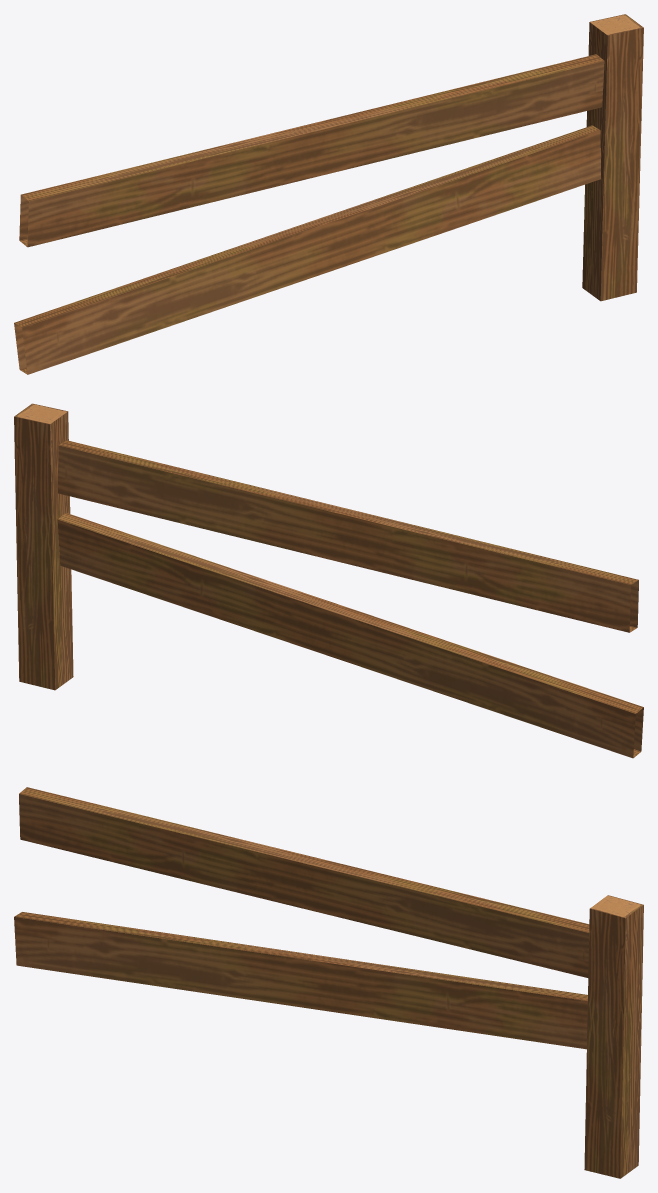
The model's file is Prop_WoodenFence_Extension1.gltf.
3 renders of one model, top to bottom at view 1: azimuth 30°, elevation 25°; view 2: azimuth 150°, elevation 25°; view 3: azimuth 330°, elevation 25°, orthographic.
Parts seen in each view (by area): view 1: Prop_WoodenFence_Extension1; view 2: Prop_WoodenFence_Extension1; view 3: Prop_WoodenFence_Extension1.
Boxes of the visible parts, x1,y1,x2,y2 form: Prop_WoodenFence_Extension1: (14, 14, 643, 374); Prop_WoodenFence_Extension1: (14, 403, 643, 758); Prop_WoodenFence_Extension1: (14, 787, 643, 1178).
Size of the model in its own units: 2.05 by 0.8381 by 0.1104.
1 material, 1 textured.
